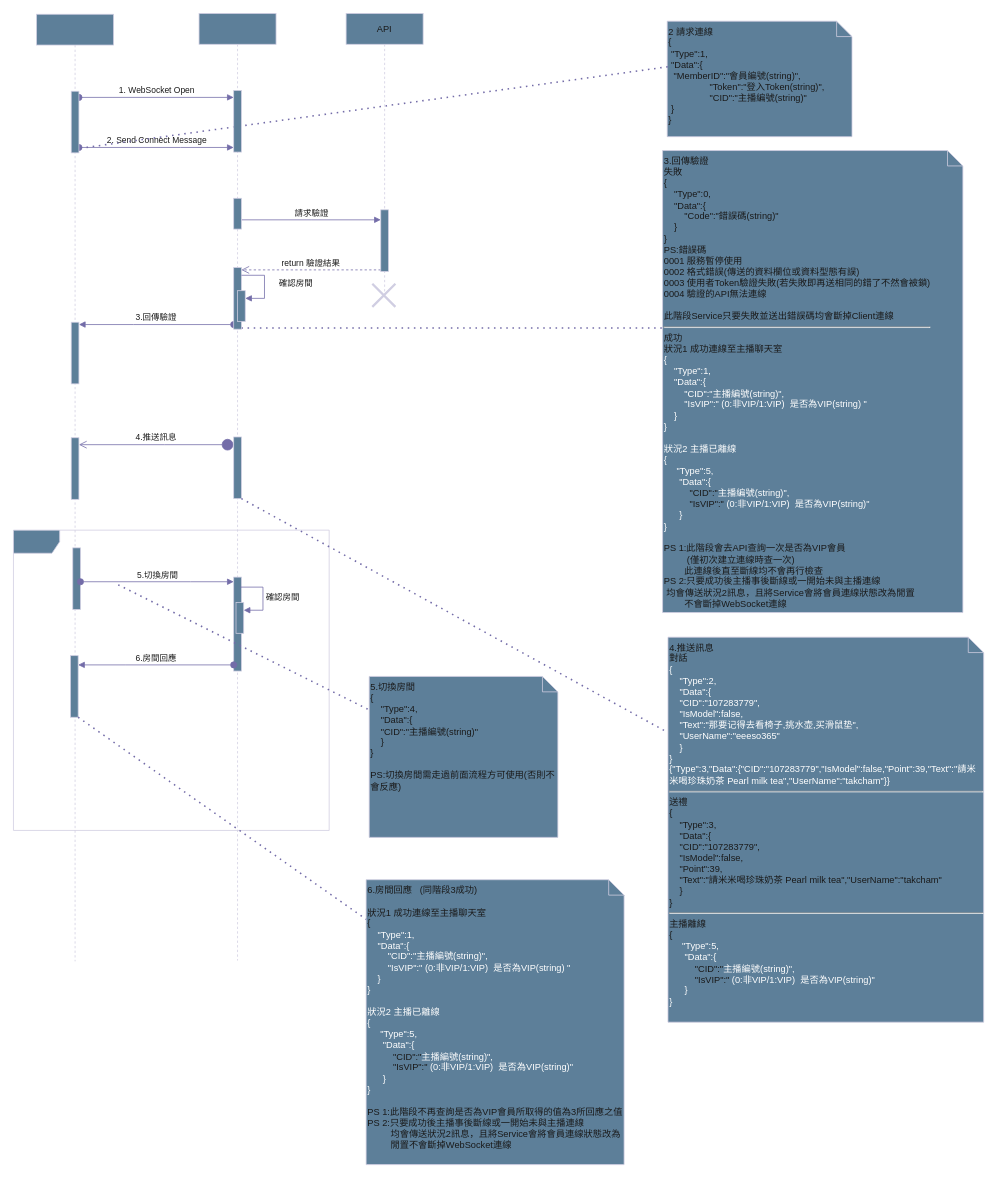
This 997x1178 diagram has some shape labels left out. The shapes that lost their labels are listed below. From the top down, each one's centre as x and y in pixels, then its label:
At (75,487): "Client".
At (237,487): "Service".
At (171,679): "主播切換".
